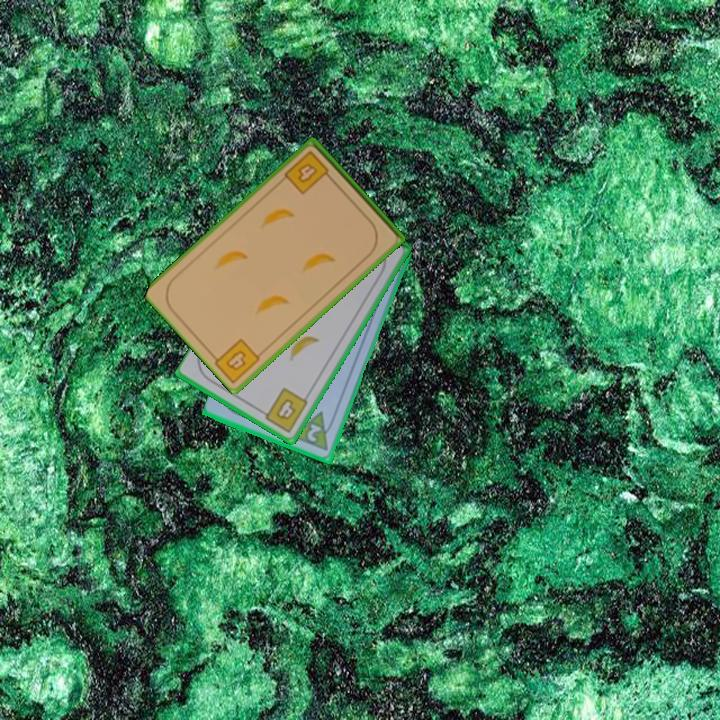2p: (303, 420, 324, 445)
4b: (257, 384, 311, 436), (281, 147, 336, 197), (222, 347, 249, 374)
